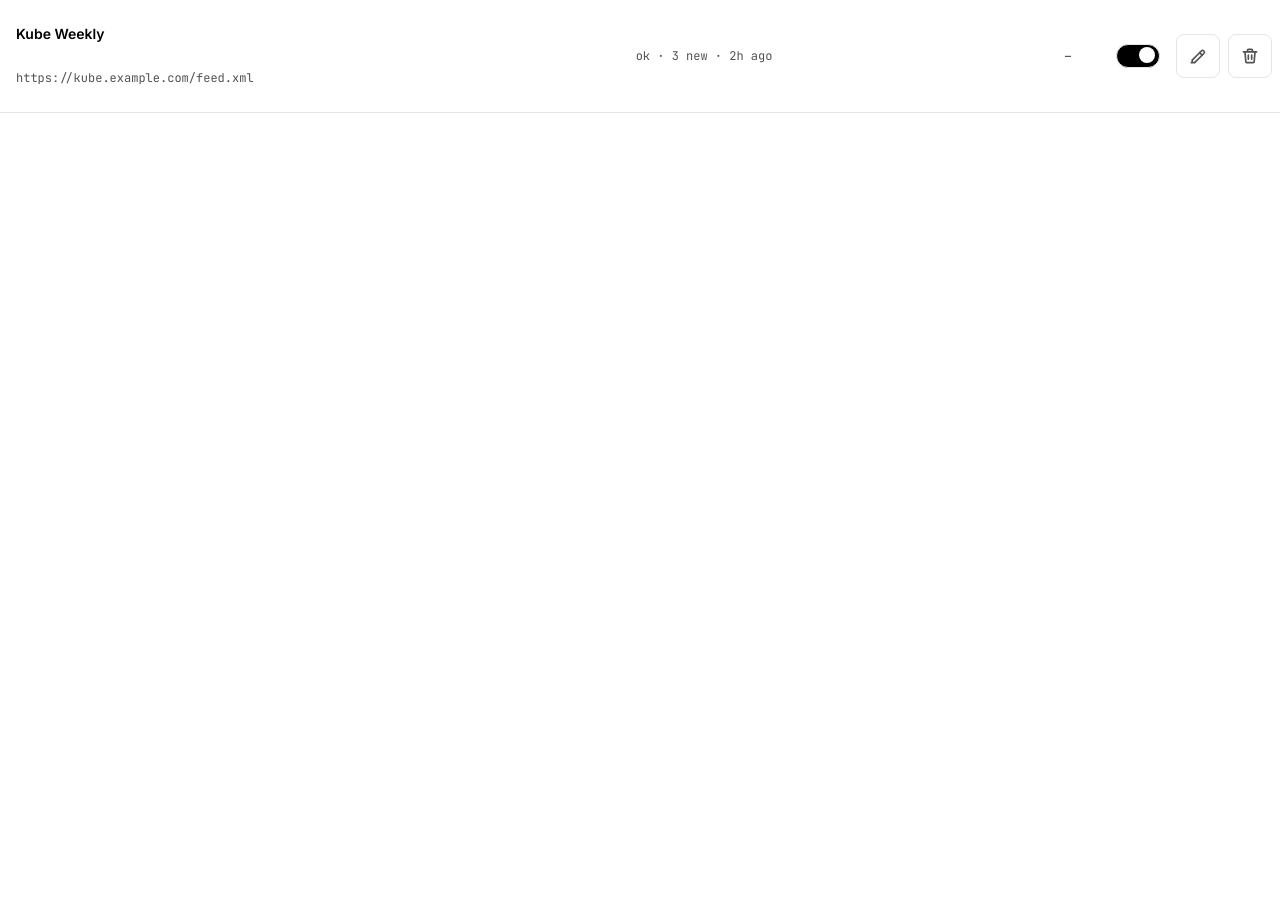
Test: SourceRow edit form › rejects Posts to crawl = 99 without saving
Click the button named "Edit Kube Weekly" at (1198, 56), box [1176,34,1220,78]
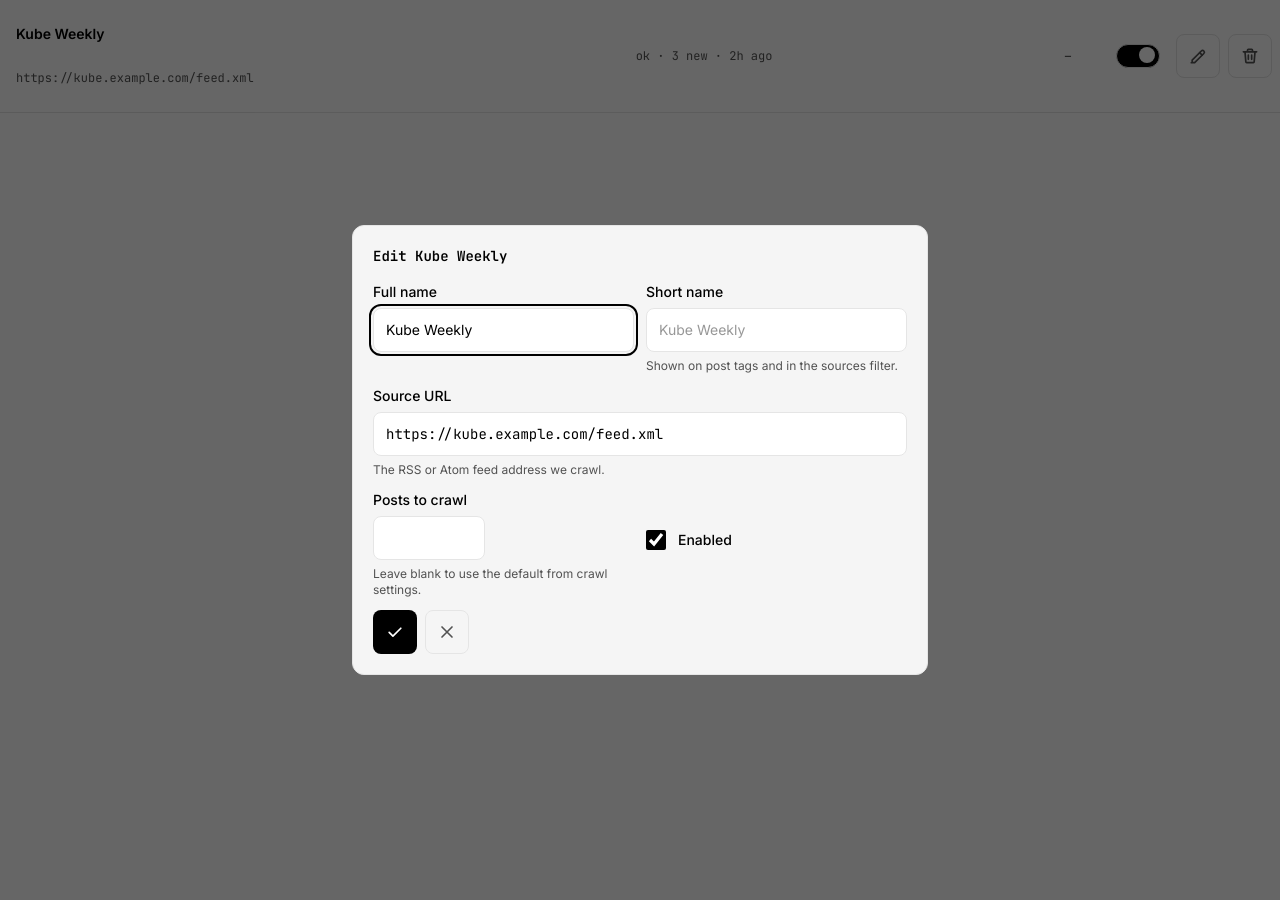
Type "99" into the number field labelled "Posts to crawl" at (429, 538), box [373,516,485,560]
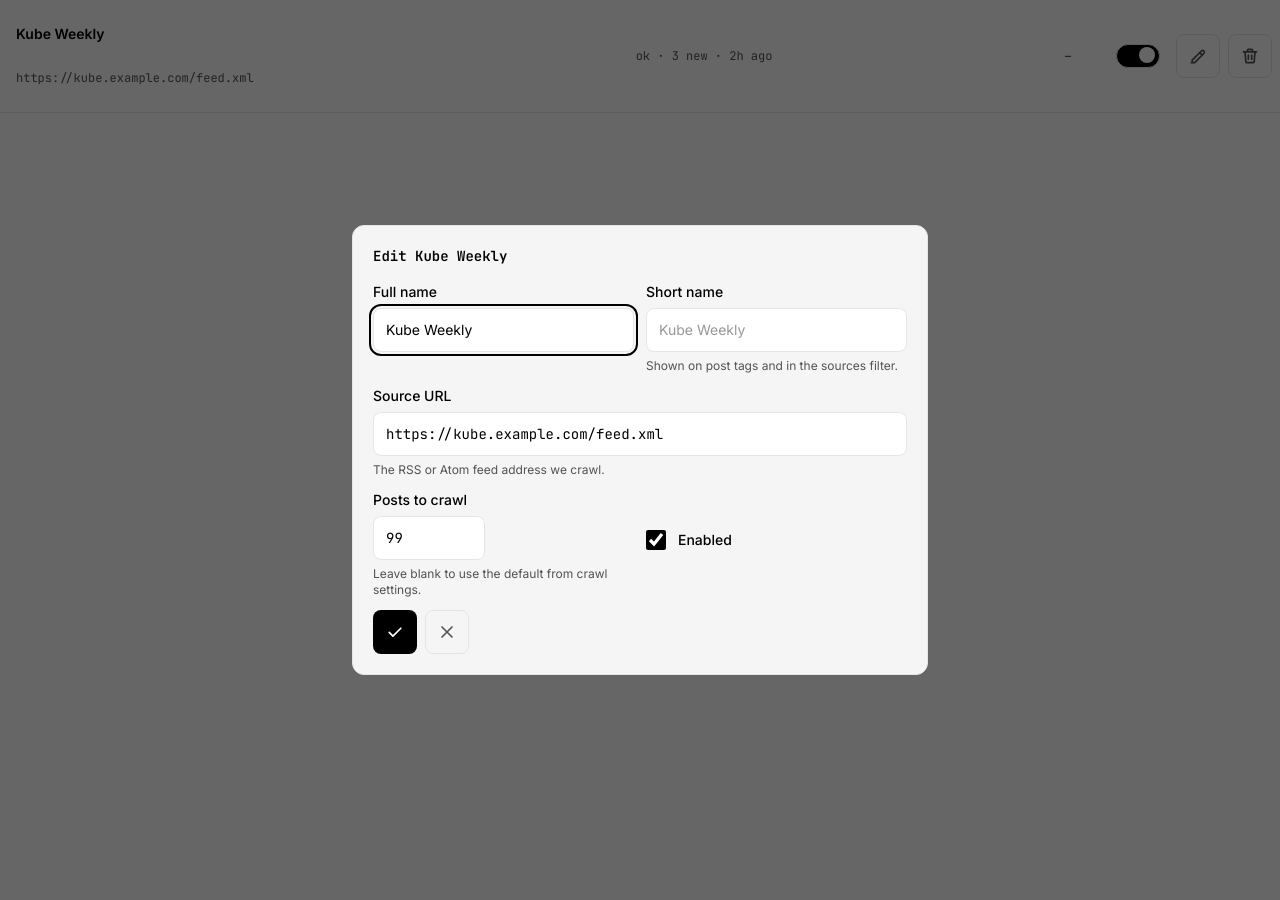
Click the button named "Save" at (395, 632), box [373,610,417,654]
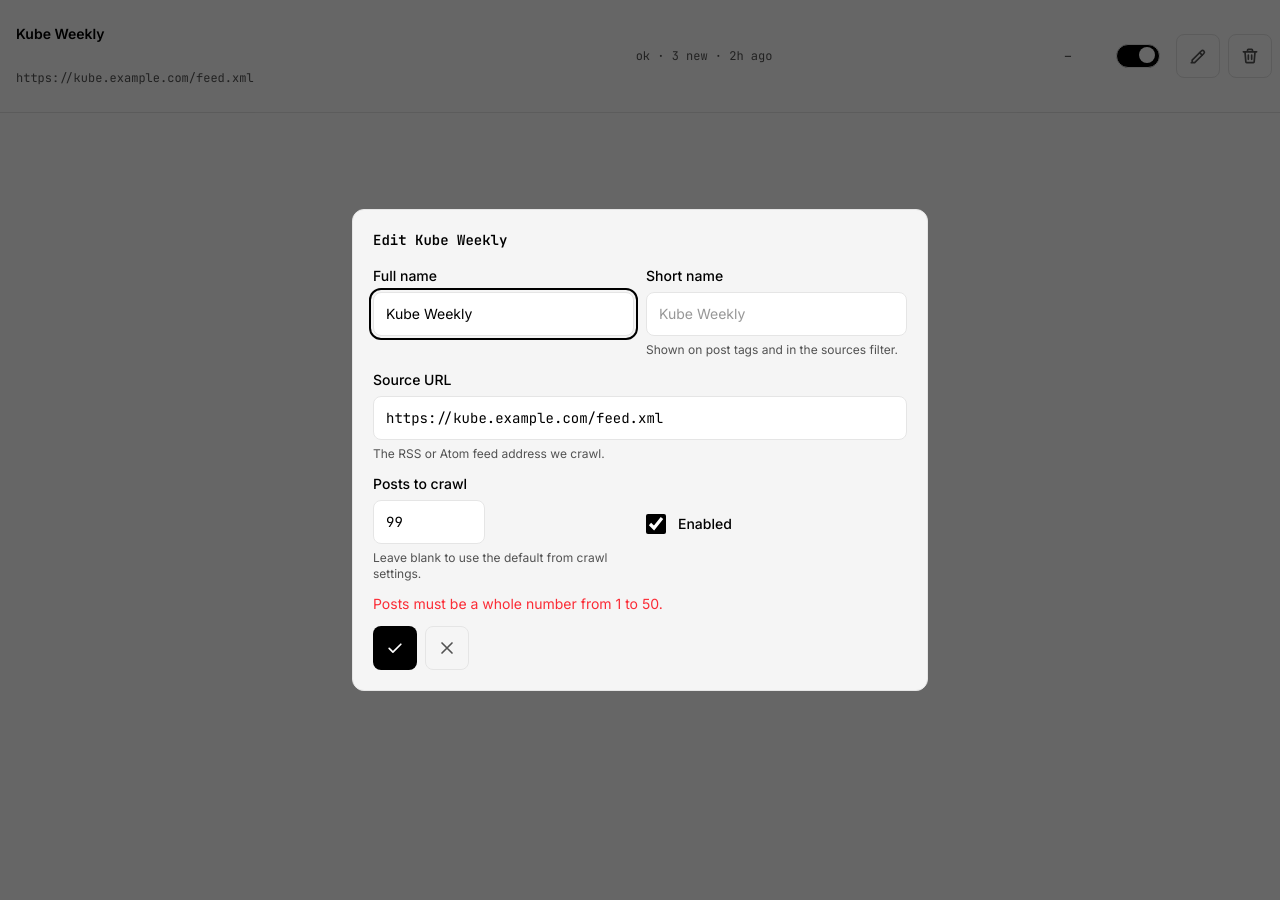
Check: the button named "Save" is shown, box [373,626,417,670]
Check: the message "Posts must be a whole number from 1 to 50." is shown, box [373,595,663,612]
